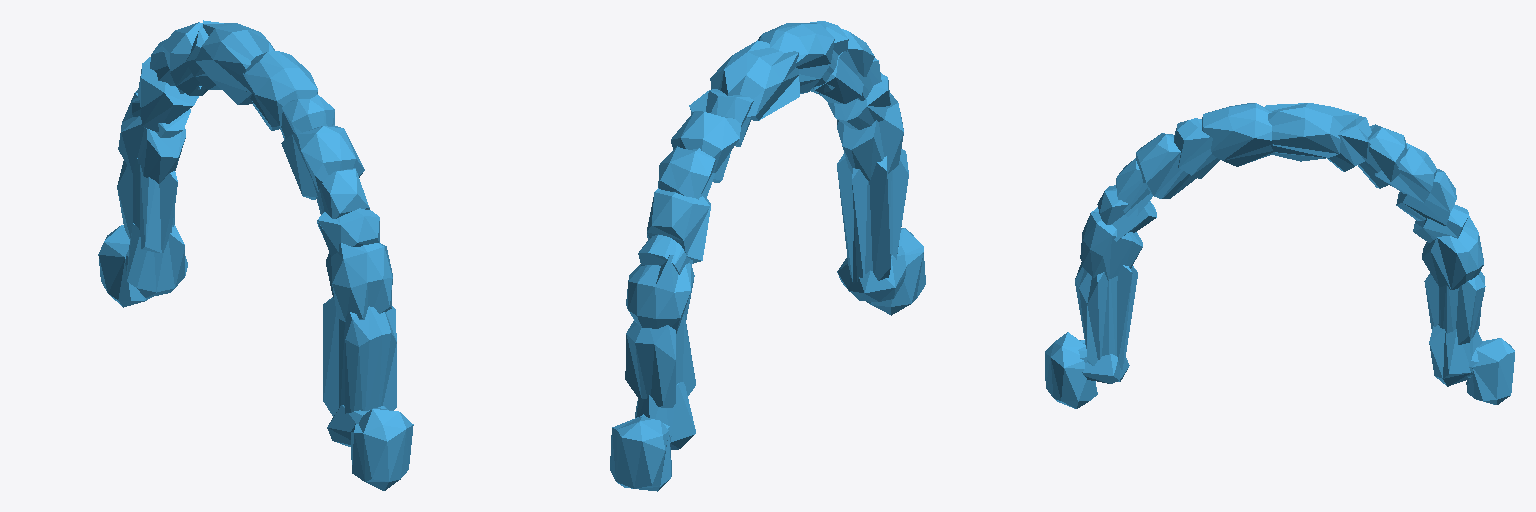
URDF robot description (partnet_302dce155e54539bf54e1b6f41fdd78a):
<?xml version="1.0" ?><robot name="partnet_302dce155e54539bf54e1b6f41fdd78a">
	<link name="base"/>
	<link name="link_0">
		<visual>
			<origin xyz="0 -0.387119372849025 -0.0016758908051998176"/>
			<geometry>
				<mesh filename="new_objs/100438_link_0_5.obj"/>
			</geometry>
		</visual>
	<visual>
			<origin xyz="0 -0.387119372849025 -0.0016758908051998176"/>
			<geometry>
				<mesh filename="new_objs/100438_link_0_18.obj"/>
			</geometry>
		</visual>
	<visual>
			<origin xyz="0 -0.387119372849025 -0.0016758908051998176"/>
			<geometry>
				<mesh filename="new_objs/100438_link_0_16.obj"/>
			</geometry>
		</visual>
	<visual>
			<origin xyz="0 -0.387119372849025 -0.0016758908051998176"/>
			<geometry>
				<mesh filename="new_objs/100438_link_0_7.obj"/>
			</geometry>
		</visual>
	<visual>
			<origin xyz="0 -0.387119372849025 -0.0016758908051998176"/>
			<geometry>
				<mesh filename="new_objs/100438_link_0_12.obj"/>
			</geometry>
		</visual>
	<visual>
			<origin xyz="0 -0.387119372849025 -0.0016758908051998176"/>
			<geometry>
				<mesh filename="new_objs/100438_link_0_19.obj"/>
			</geometry>
		</visual>
	<visual>
			<origin xyz="0 -0.387119372849025 -0.0016758908051998176"/>
			<geometry>
				<mesh filename="new_objs/100438_link_0_2.obj"/>
			</geometry>
		</visual>
	<visual>
			<origin xyz="0 -0.387119372849025 -0.0016758908051998176"/>
			<geometry>
				<mesh filename="new_objs/100438_link_0_0.obj"/>
			</geometry>
		</visual>
	<visual>
			<origin xyz="0 -0.387119372849025 -0.0016758908051998176"/>
			<geometry>
				<mesh filename="new_objs/100438_link_0_4.obj"/>
			</geometry>
		</visual>
	<visual>
			<origin xyz="0 -0.387119372849025 -0.0016758908051998176"/>
			<geometry>
				<mesh filename="new_objs/100438_link_0_6.obj"/>
			</geometry>
		</visual>
	<visual>
			<origin xyz="0 -0.387119372849025 -0.0016758908051998176"/>
			<geometry>
				<mesh filename="new_objs/100438_link_0_10.obj"/>
			</geometry>
		</visual>
	<visual>
			<origin xyz="0 -0.387119372849025 -0.0016758908051998176"/>
			<geometry>
				<mesh filename="new_objs/100438_link_0_13.obj"/>
			</geometry>
		</visual>
	<visual>
			<origin xyz="0 -0.387119372849025 -0.0016758908051998176"/>
			<geometry>
				<mesh filename="new_objs/100438_link_0_9.obj"/>
			</geometry>
		</visual>
	<visual>
			<origin xyz="0 -0.387119372849025 -0.0016758908051998176"/>
			<geometry>
				<mesh filename="new_objs/100438_link_0_15.obj"/>
			</geometry>
		</visual>
	<visual>
			<origin xyz="0 -0.387119372849025 -0.0016758908051998176"/>
			<geometry>
				<mesh filename="new_objs/100438_link_0_8.obj"/>
			</geometry>
		</visual>
	<visual>
			<origin xyz="0 -0.387119372849025 -0.0016758908051998176"/>
			<geometry>
				<mesh filename="new_objs/100438_link_0_17.obj"/>
			</geometry>
		</visual>
	<visual>
			<origin xyz="0 -0.387119372849025 -0.0016758908051998176"/>
			<geometry>
				<mesh filename="new_objs/100438_link_0_14.obj"/>
			</geometry>
		</visual>
	<visual>
			<origin xyz="0 -0.387119372849025 -0.0016758908051998176"/>
			<geometry>
				<mesh filename="new_objs/100438_link_0_1.obj"/>
			</geometry>
		</visual>
	<visual>
			<origin xyz="0 -0.387119372849025 -0.0016758908051998176"/>
			<geometry>
				<mesh filename="new_objs/100438_link_0_11.obj"/>
			</geometry>
		</visual>
	<visual>
			<origin xyz="0 -0.387119372849025 -0.0016758908051998176"/>
			<geometry>
				<mesh filename="new_objs/100438_link_0_3.obj"/>
			</geometry>
		</visual>
	
		<collision>
			<origin xyz="0 -0.387119372849025 -0.0016758908051998176"/>
			<geometry>
				<mesh filename="new_objs/100438_link_0_5.obj"/>
			</geometry>
		</collision><collision>
			<origin xyz="0 -0.387119372849025 -0.0016758908051998176"/>
			<geometry>
				<mesh filename="new_objs/100438_link_0_18.obj"/>
			</geometry>
		</collision><collision>
			<origin xyz="0 -0.387119372849025 -0.0016758908051998176"/>
			<geometry>
				<mesh filename="new_objs/100438_link_0_16.obj"/>
			</geometry>
		</collision><collision>
			<origin xyz="0 -0.387119372849025 -0.0016758908051998176"/>
			<geometry>
				<mesh filename="new_objs/100438_link_0_7.obj"/>
			</geometry>
		</collision><collision>
			<origin xyz="0 -0.387119372849025 -0.0016758908051998176"/>
			<geometry>
				<mesh filename="new_objs/100438_link_0_12.obj"/>
			</geometry>
		</collision><collision>
			<origin xyz="0 -0.387119372849025 -0.0016758908051998176"/>
			<geometry>
				<mesh filename="new_objs/100438_link_0_19.obj"/>
			</geometry>
		</collision><collision>
			<origin xyz="0 -0.387119372849025 -0.0016758908051998176"/>
			<geometry>
				<mesh filename="new_objs/100438_link_0_2.obj"/>
			</geometry>
		</collision><collision>
			<origin xyz="0 -0.387119372849025 -0.0016758908051998176"/>
			<geometry>
				<mesh filename="new_objs/100438_link_0_0.obj"/>
			</geometry>
		</collision><collision>
			<origin xyz="0 -0.387119372849025 -0.0016758908051998176"/>
			<geometry>
				<mesh filename="new_objs/100438_link_0_4.obj"/>
			</geometry>
		</collision><collision>
			<origin xyz="0 -0.387119372849025 -0.0016758908051998176"/>
			<geometry>
				<mesh filename="new_objs/100438_link_0_6.obj"/>
			</geometry>
		</collision><collision>
			<origin xyz="0 -0.387119372849025 -0.0016758908051998176"/>
			<geometry>
				<mesh filename="new_objs/100438_link_0_10.obj"/>
			</geometry>
		</collision><collision>
			<origin xyz="0 -0.387119372849025 -0.0016758908051998176"/>
			<geometry>
				<mesh filename="new_objs/100438_link_0_13.obj"/>
			</geometry>
		</collision><collision>
			<origin xyz="0 -0.387119372849025 -0.0016758908051998176"/>
			<geometry>
				<mesh filename="new_objs/100438_link_0_9.obj"/>
			</geometry>
		</collision><collision>
			<origin xyz="0 -0.387119372849025 -0.0016758908051998176"/>
			<geometry>
				<mesh filename="new_objs/100438_link_0_15.obj"/>
			</geometry>
		</collision><collision>
			<origin xyz="0 -0.387119372849025 -0.0016758908051998176"/>
			<geometry>
				<mesh filename="new_objs/100438_link_0_8.obj"/>
			</geometry>
		</collision><collision>
			<origin xyz="0 -0.387119372849025 -0.0016758908051998176"/>
			<geometry>
				<mesh filename="new_objs/100438_link_0_17.obj"/>
			</geometry>
		</collision><collision>
			<origin xyz="0 -0.387119372849025 -0.0016758908051998176"/>
			<geometry>
				<mesh filename="new_objs/100438_link_0_14.obj"/>
			</geometry>
		</collision><collision>
			<origin xyz="0 -0.387119372849025 -0.0016758908051998176"/>
			<geometry>
				<mesh filename="new_objs/100438_link_0_1.obj"/>
			</geometry>
		</collision><collision>
			<origin xyz="0 -0.387119372849025 -0.0016758908051998176"/>
			<geometry>
				<mesh filename="new_objs/100438_link_0_11.obj"/>
			</geometry>
		</collision><collision>
			<origin xyz="0 -0.387119372849025 -0.0016758908051998176"/>
			<geometry>
				<mesh filename="new_objs/100438_link_0_3.obj"/>
			</geometry>
		</collision></link>
	<joint name="joint_0" type="revolute">
		<origin xyz="0 0.387119372849025 0.0016758908051998176"/>
		<axis xyz="-1 0 0"/>
		<child link="link_0"/>
		<parent link="link_1"/>
		<limit lower="-1.2692034320502759" upper="1.2692034320502759"/>
	</joint>
	<link name="link_1">
		<collision>
			<origin xyz="0 0 0"/>
			<geometry>
				<mesh filename="new_objs/100438_link_1_27.obj"/>
			</geometry>
		</collision>
	<collision>
			<origin xyz="0 0 0"/>
			<geometry>
				<mesh filename="new_objs/100438_link_1_18.obj"/>
			</geometry>
		</collision>
	<collision>
			<origin xyz="0 0 0"/>
			<geometry>
				<mesh filename="new_objs/100438_link_1_14.obj"/>
			</geometry>
		</collision>
	<collision>
			<origin xyz="0 0 0"/>
			<geometry>
				<mesh filename="new_objs/100438_link_1_4.obj"/>
			</geometry>
		</collision>
	<collision>
			<origin xyz="0 0 0"/>
			<geometry>
				<mesh filename="new_objs/100438_link_1_32.obj"/>
			</geometry>
		</collision>
	<collision>
			<origin xyz="0 0 0"/>
			<geometry>
				<mesh filename="new_objs/100438_link_1_1.obj"/>
			</geometry>
		</collision>
	<collision>
			<origin xyz="0 0 0"/>
			<geometry>
				<mesh filename="new_objs/100438_link_1_38.obj"/>
			</geometry>
		</collision>
	<collision>
			<origin xyz="0 0 0"/>
			<geometry>
				<mesh filename="new_objs/100438_link_1_22.obj"/>
			</geometry>
		</collision>
	<collision>
			<origin xyz="0 0 0"/>
			<geometry>
				<mesh filename="new_objs/100438_link_1_19.obj"/>
			</geometry>
		</collision>
	<collision>
			<origin xyz="0 0 0"/>
			<geometry>
				<mesh filename="new_objs/100438_link_1_9.obj"/>
			</geometry>
		</collision>
	<collision>
			<origin xyz="0 0 0"/>
			<geometry>
				<mesh filename="new_objs/100438_link_1_17.obj"/>
			</geometry>
		</collision>
	<collision>
			<origin xyz="0 0 0"/>
			<geometry>
				<mesh filename="new_objs/100438_link_1_35.obj"/>
			</geometry>
		</collision>
	<collision>
			<origin xyz="0 0 0"/>
			<geometry>
				<mesh filename="new_objs/100438_link_1_0.obj"/>
			</geometry>
		</collision>
	<collision>
			<origin xyz="0 0 0"/>
			<geometry>
				<mesh filename="new_objs/100438_link_1_16.obj"/>
			</geometry>
		</collision>
	<collision>
			<origin xyz="0 0 0"/>
			<geometry>
				<mesh filename="new_objs/100438_link_1_33.obj"/>
			</geometry>
		</collision>
	<collision>
			<origin xyz="0 0 0"/>
			<geometry>
				<mesh filename="new_objs/100438_link_1_26.obj"/>
			</geometry>
		</collision>
	<collision>
			<origin xyz="0 0 0"/>
			<geometry>
				<mesh filename="new_objs/100438_link_1_12.obj"/>
			</geometry>
		</collision>
	<collision>
			<origin xyz="0 0 0"/>
			<geometry>
				<mesh filename="new_objs/100438_link_1_10.obj"/>
			</geometry>
		</collision>
	<collision>
			<origin xyz="0 0 0"/>
			<geometry>
				<mesh filename="new_objs/100438_link_1_20.obj"/>
			</geometry>
		</collision>
	<collision>
			<origin xyz="0 0 0"/>
			<geometry>
				<mesh filename="new_objs/100438_link_1_5.obj"/>
			</geometry>
		</collision>
	<collision>
			<origin xyz="0 0 0"/>
			<geometry>
				<mesh filename="new_objs/100438_link_1_30.obj"/>
			</geometry>
		</collision>
	<collision>
			<origin xyz="0 0 0"/>
			<geometry>
				<mesh filename="new_objs/100438_link_1_37.obj"/>
			</geometry>
		</collision>
	<collision>
			<origin xyz="0 0 0"/>
			<geometry>
				<mesh filename="new_objs/100438_link_1_31.obj"/>
			</geometry>
		</collision>
	<collision>
			<origin xyz="0 0 0"/>
			<geometry>
				<mesh filename="new_objs/100438_link_1_3.obj"/>
			</geometry>
		</collision>
	<collision>
			<origin xyz="0 0 0"/>
			<geometry>
				<mesh filename="new_objs/100438_link_1_6.obj"/>
			</geometry>
		</collision>
	<collision>
			<origin xyz="0 0 0"/>
			<geometry>
				<mesh filename="new_objs/100438_link_1_41.obj"/>
			</geometry>
		</collision>
	<collision>
			<origin xyz="0 0 0"/>
			<geometry>
				<mesh filename="new_objs/100438_link_1_29.obj"/>
			</geometry>
		</collision>
	<collision>
			<origin xyz="0 0 0"/>
			<geometry>
				<mesh filename="new_objs/100438_link_1_24.obj"/>
			</geometry>
		</collision>
	<collision>
			<origin xyz="0 0 0"/>
			<geometry>
				<mesh filename="new_objs/100438_link_1_23.obj"/>
			</geometry>
		</collision>
	<collision>
			<origin xyz="0 0 0"/>
			<geometry>
				<mesh filename="new_objs/100438_link_1_28.obj"/>
			</geometry>
		</collision>
	<collision>
			<origin xyz="0 0 0"/>
			<geometry>
				<mesh filename="new_objs/100438_link_1_7.obj"/>
			</geometry>
		</collision>
	<collision>
			<origin xyz="0 0 0"/>
			<geometry>
				<mesh filename="new_objs/100438_link_1_8.obj"/>
			</geometry>
		</collision>
	<collision>
			<origin xyz="0 0 0"/>
			<geometry>
				<mesh filename="new_objs/100438_link_1_39.obj"/>
			</geometry>
		</collision>
	<collision>
			<origin xyz="0 0 0"/>
			<geometry>
				<mesh filename="new_objs/100438_link_1_11.obj"/>
			</geometry>
		</collision>
	<collision>
			<origin xyz="0 0 0"/>
			<geometry>
				<mesh filename="new_objs/100438_link_1_40.obj"/>
			</geometry>
		</collision>
	<collision>
			<origin xyz="0 0 0"/>
			<geometry>
				<mesh filename="new_objs/100438_link_1_2.obj"/>
			</geometry>
		</collision>
	<collision>
			<origin xyz="0 0 0"/>
			<geometry>
				<mesh filename="new_objs/100438_link_1_25.obj"/>
			</geometry>
		</collision>
	<collision>
			<origin xyz="0 0 0"/>
			<geometry>
				<mesh filename="new_objs/100438_link_1_34.obj"/>
			</geometry>
		</collision>
	<collision>
			<origin xyz="0 0 0"/>
			<geometry>
				<mesh filename="new_objs/100438_link_1_36.obj"/>
			</geometry>
		</collision>
	<collision>
			<origin xyz="0 0 0"/>
			<geometry>
				<mesh filename="new_objs/100438_link_1_15.obj"/>
			</geometry>
		</collision>
	<collision>
			<origin xyz="0 0 0"/>
			<geometry>
				<mesh filename="new_objs/100438_link_1_13.obj"/>
			</geometry>
		</collision>
	<collision>
			<origin xyz="0 0 0"/>
			<geometry>
				<mesh filename="new_objs/100438_link_1_21.obj"/>
			</geometry>
		</collision>
	<visual name="base_body-part[&quot;id]">
			<origin xyz="0 0 0"/>
			<geometry>
				<mesh filename="textured_objs/original-2.obj"/>
			</geometry>
		</visual>
		</link>
	<joint name="joint_1" type="fixed">
		<origin rpy="1.570796326794897 0 -1.570796326794897" xyz="0 0 0"/>
		<child link="link_1"/>
		<parent link="base"/>
	</joint>
</robot>

--- Facts derived from the render (not from the file) ---
Views: 3 orthographic renders of the robot side by side, from view 1: azimuth 30°, elevation 25°; view 2: azimuth 150°, elevation 25°; view 3: azimuth 270°, elevation 25°.
Model partnet_302dce155e54539bf54e1b6f41fdd78a with 3 links and 2 joints (1 revolute, 1 fixed), rooted at base, posed every joint at zero.
Visible links, largest first — view 1: link_0; view 2: link_0; view 3: link_0.
Link boxes in pixels (left/top/right/bottom): link_0: left=98, top=20, right=413, bottom=490; link_0: left=610, top=21, right=925, bottom=491; link_0: left=1045, top=103, right=1514, bottom=408.
Bounding box of the posed robot: 0.145 × 1.13 × 0.793 m (x, y, z).
20 mesh visuals loaded from 21 distinct referenced files (20 OBJ); not drawn: 1 (reference not matched to a file when rendering).
